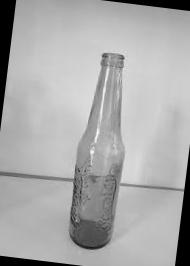glass: (44, 40, 155, 260)
